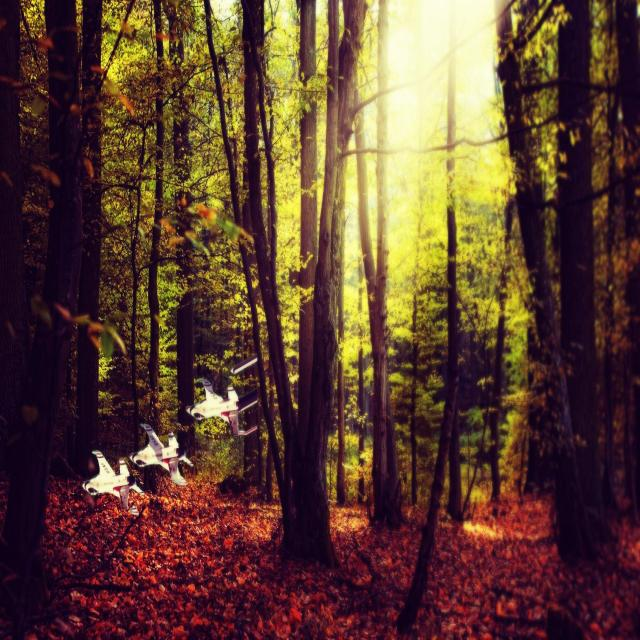airplane: (186, 377, 258, 437), (129, 422, 193, 486), (81, 448, 144, 509)
